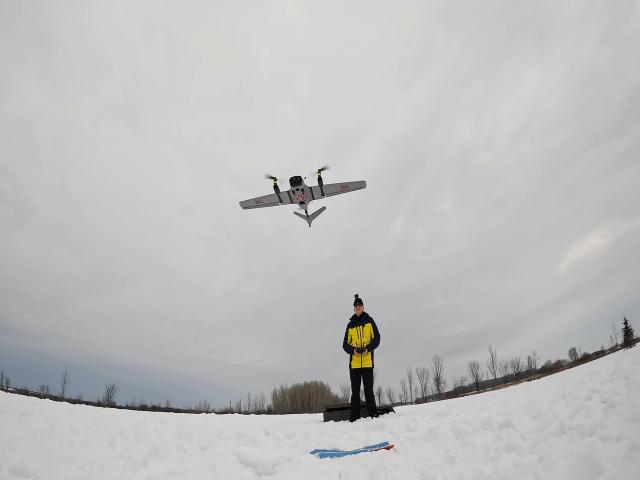plane: (239, 166, 367, 227)
